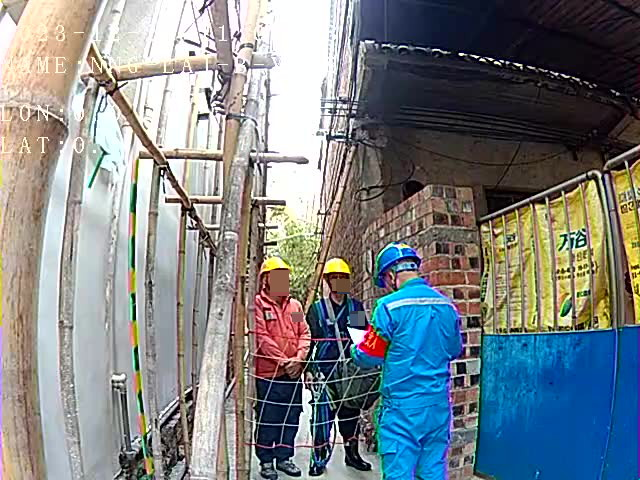badge: (358, 326, 387, 357)
downsuit: (377, 403, 455, 480), (250, 381, 305, 465)
halt: (377, 245, 424, 286), (320, 258, 355, 297), (257, 258, 293, 295)
hand: (283, 361, 301, 378)
inear: (380, 269, 399, 287)
person: (368, 244, 465, 480), (242, 256, 310, 479), (310, 255, 371, 476), (308, 257, 372, 380)
safebelt: (309, 294, 364, 467)
shoe: (342, 438, 366, 469), (309, 436, 329, 471)
upsuit: (372, 280, 465, 401), (310, 296, 371, 375)
yupsuit: (249, 288, 308, 370)
